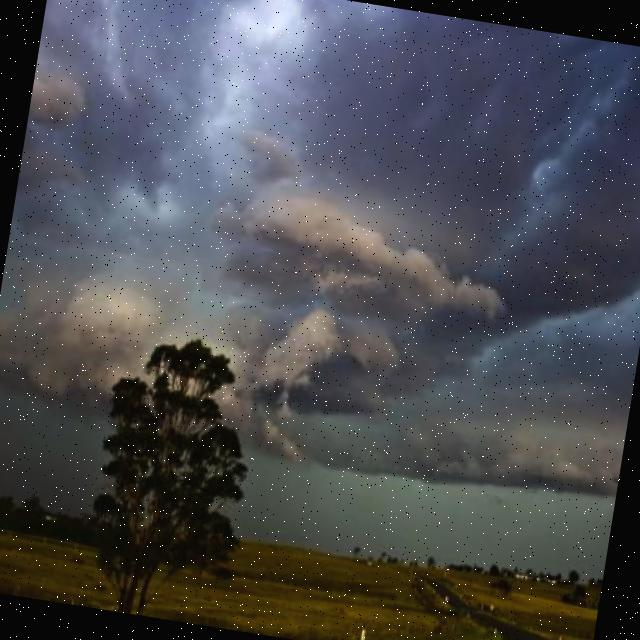Cb: (1, 1, 640, 407)
